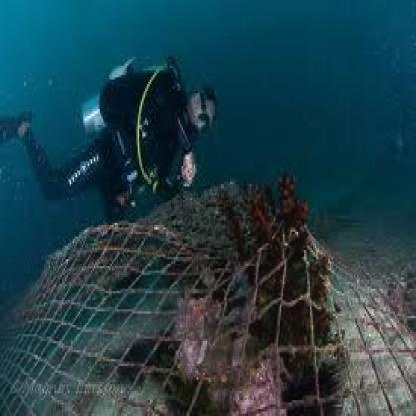net: (10, 213, 416, 416)
